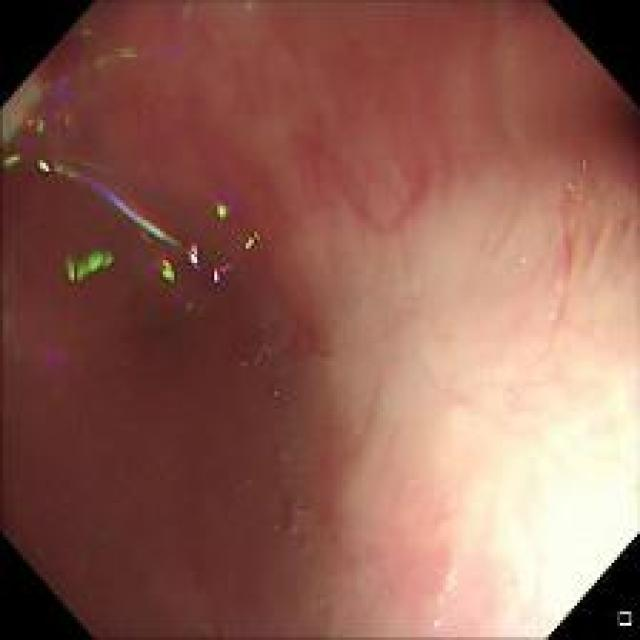bubbles: (154, 451, 190, 484), (285, 501, 308, 536), (258, 378, 286, 406), (172, 295, 202, 321), (255, 338, 272, 364), (114, 355, 129, 370), (564, 180, 579, 194), (436, 565, 450, 579), (429, 614, 442, 629), (238, 356, 252, 369)
color misalignment: (35, 152, 188, 259), (2, 62, 59, 150), (10, 329, 72, 371), (61, 244, 119, 282), (91, 44, 144, 72), (50, 105, 81, 129), (238, 225, 261, 256), (25, 110, 52, 136), (206, 194, 234, 219), (208, 260, 235, 284), (156, 254, 178, 281), (181, 240, 200, 268), (4, 152, 21, 171)
saturation: (465, 392, 636, 631)
